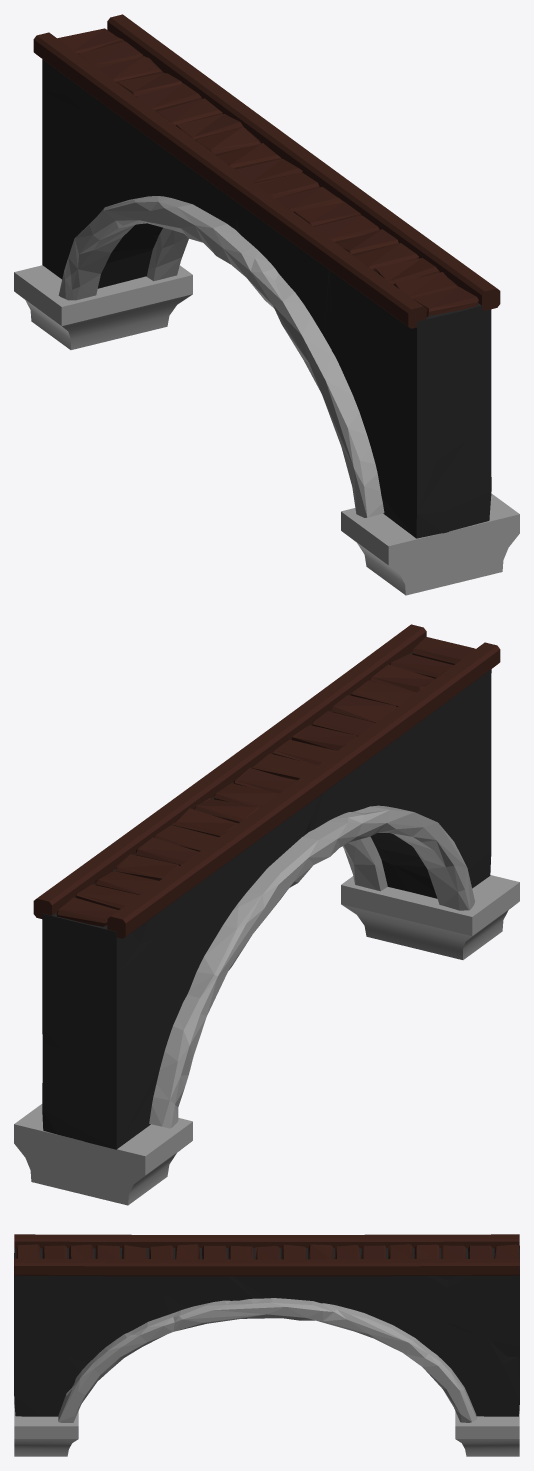
Rendered from civilian_bridge_1_c.FBX.
3 views of the same model, one above another, from view 1: azimuth 30°, elevation 25°; view 2: azimuth 150°, elevation 25°; view 3: azimuth 270°, elevation 25° (orthographic). The views are drawn at different scales.
Visible parts, largest first — view 1: civilian_bridge_1_c; view 2: civilian_bridge_1_c; view 3: civilian_bridge_1_c.
Boxes of the visible parts, x1,y1,x2,y2 form: civilian_bridge_1_c: (14, 14, 519, 595); civilian_bridge_1_c: (14, 624, 519, 1205); civilian_bridge_1_c: (14, 1234, 519, 1456).
Size of the model in its own units: 214 by 443 by 1057.
